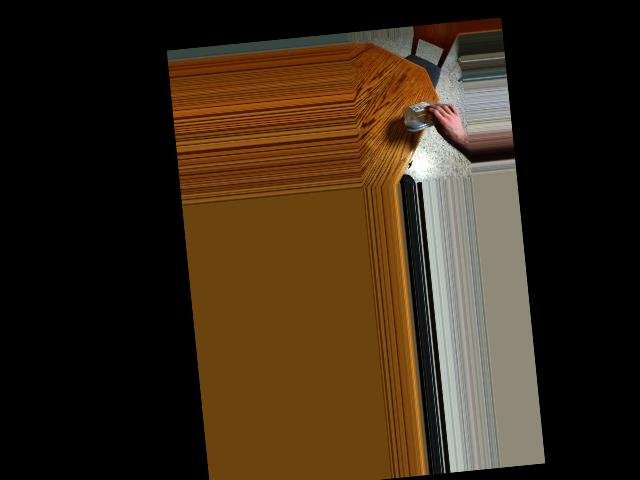cheese: (410, 97, 450, 134)
